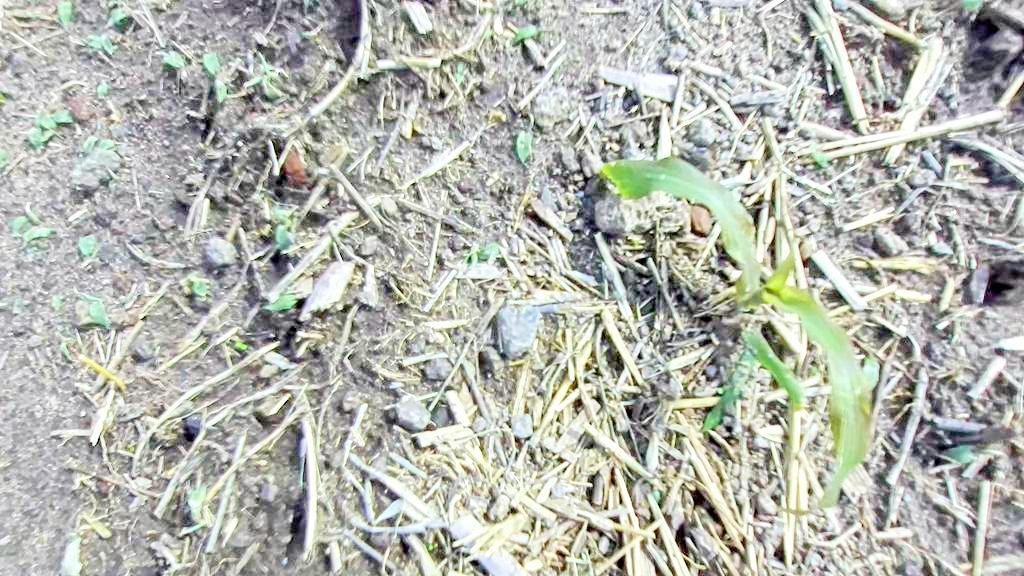BroWeed: (72, 349, 135, 401), (65, 282, 121, 329), (148, 530, 195, 576), (153, 39, 198, 84), (180, 479, 211, 539), (244, 68, 289, 107), (13, 217, 63, 251), (2, 200, 43, 238), (458, 239, 502, 269), (513, 109, 537, 163), (938, 446, 1008, 463), (99, 2, 143, 29), (262, 347, 299, 378), (258, 291, 310, 313), (59, 531, 84, 576), (509, 18, 551, 44), (79, 117, 107, 155), (88, 25, 121, 56), (197, 46, 228, 77), (256, 47, 279, 83), (861, 351, 881, 390), (67, 30, 105, 50), (121, 488, 149, 515), (937, 83, 962, 112), (186, 268, 209, 299), (211, 65, 229, 104), (25, 125, 47, 156), (930, 237, 956, 263), (292, 334, 318, 359), (807, 140, 828, 170), (271, 204, 298, 227), (77, 232, 100, 258), (121, 473, 153, 491), (986, 455, 1007, 482), (256, 359, 281, 381), (35, 109, 58, 131), (300, 21, 325, 41), (57, 334, 76, 360), (93, 78, 113, 102), (276, 223, 293, 250), (398, 248, 416, 270), (51, 109, 75, 124), (488, 108, 508, 122), (651, 485, 663, 503), (18, 219, 33, 233), (961, 0, 981, 10), (456, 61, 465, 83), (482, 28, 498, 40), (52, 294, 63, 311), (40, 129, 54, 142), (809, 364, 822, 378), (98, 139, 116, 149), (224, 333, 240, 344), (233, 340, 248, 351), (126, 438, 137, 452), (0, 149, 8, 168), (171, 548, 181, 562), (178, 278, 192, 287), (470, 250, 479, 264), (632, 238, 646, 247), (532, 178, 541, 191), (182, 285, 191, 296), (0, 92, 8, 104), (194, 294, 206, 301), (428, 543, 438, 551), (516, 0, 529, 6), (304, 0, 309, 8)
Maize: (598, 103, 905, 541)
